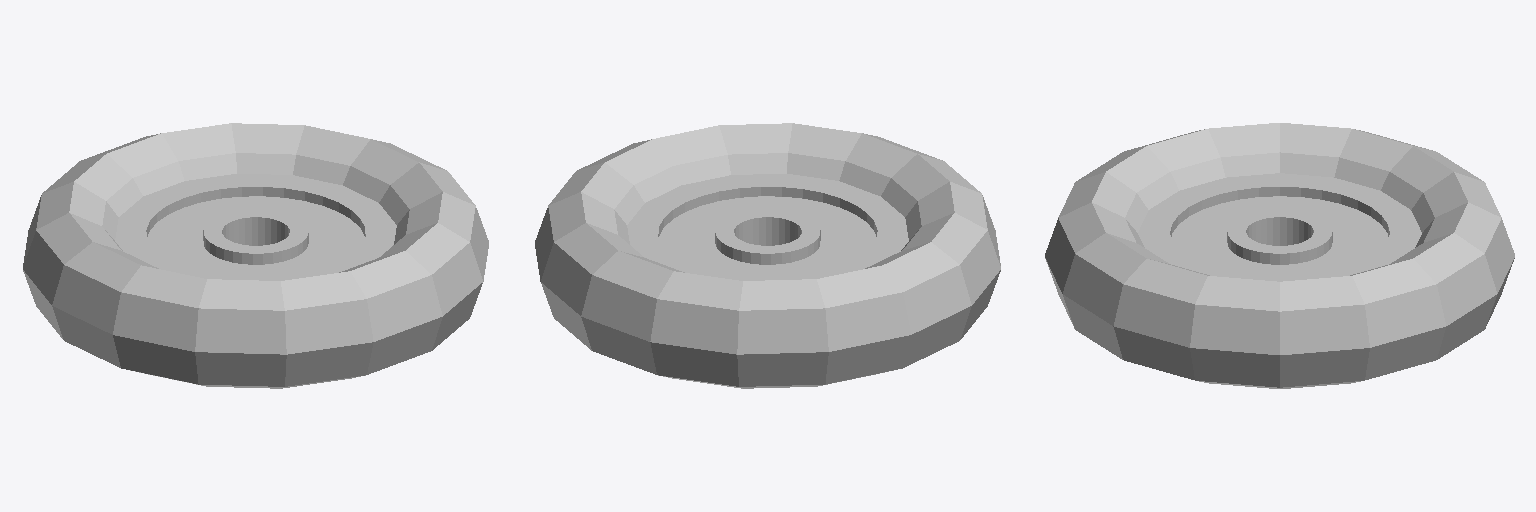
File: single_tire.obj
3 renders of one model, left to right at view 1: azimuth 30°, elevation 25°; view 2: azimuth 150°, elevation 25°; view 3: azimuth 270°, elevation 25°, orthographic.
Parts seen in each view (by area): view 1: Torus; view 2: Torus; view 3: Torus.
Boxes of the visible parts, x1=… form: Torus: x1=23, y1=123, x2=488, y2=388; Torus: x1=535, y1=123, x2=1000, y2=388; Torus: x1=1045, y1=123, x2=1514, y2=388.
Bounding box in the file's own units: 2.78 × 0.7018 × 2.78.